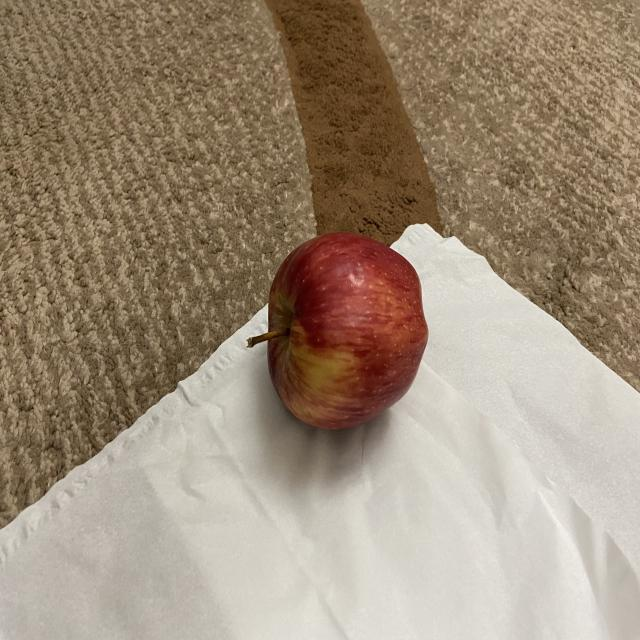apple: (246, 228, 428, 434)
